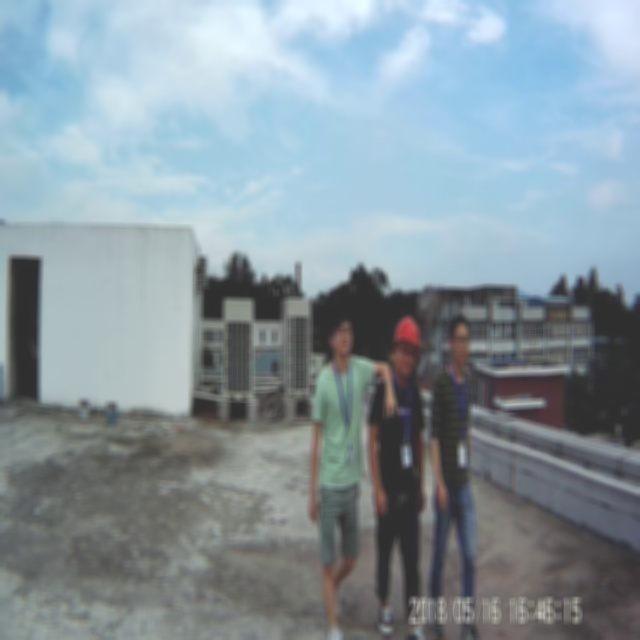Con_Casco: (393, 318, 421, 374)
Sin_Casco_Mascarrilla: (330, 308, 353, 360), (448, 314, 470, 368)
